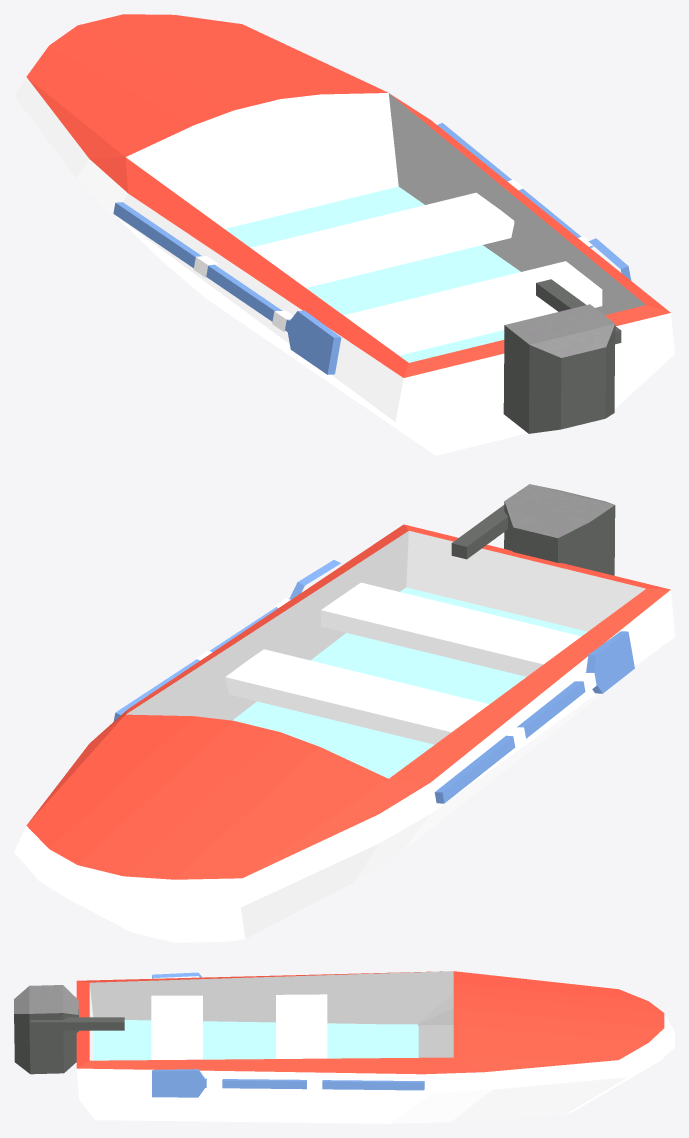
File: transport_water.007.glb
3 views of the same model, one above another, from view 1: azimuth 30°, elevation 25°; view 2: azimuth 150°, elevation 25°; view 3: azimuth 270°, elevation 25° (orthographic). The views are drawn at different scales.
Parts seen in each view (by area): view 1: transport_water.007(Clone); view 2: transport_water.007(Clone); view 3: transport_water.007(Clone).
Boxes of the visible parts, box(x1,y1,x2,y2) form: transport_water.007(Clone): box(14, 14, 674, 455); transport_water.007(Clone): box(14, 484, 674, 942); transport_water.007(Clone): box(14, 971, 674, 1123).
Bounding box in the file's own units: 1.84 × 0.7285 × 4.72.
Materials: 1 (1 with a texture image).
